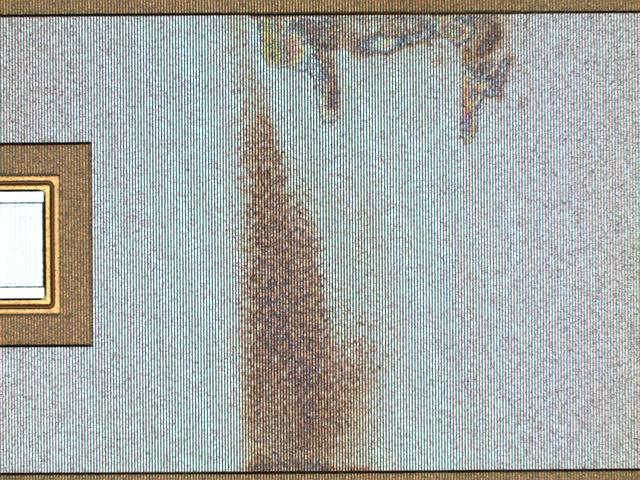SEZ BURNT: (214, 13, 548, 474)
